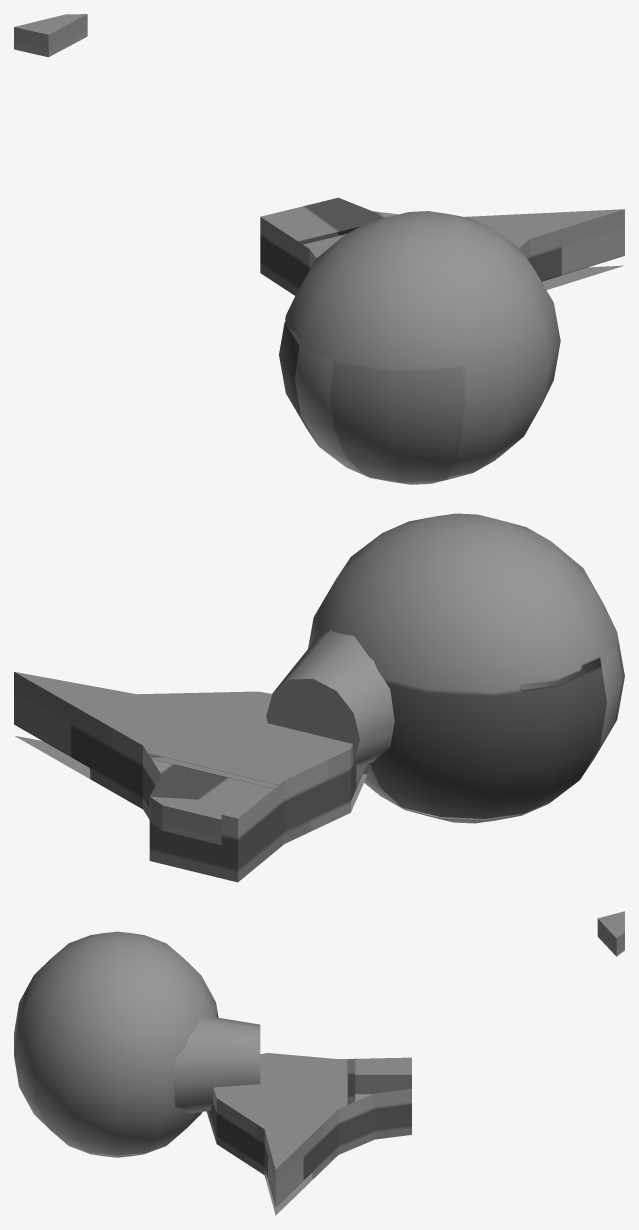
The picture shows the model from 3 angles, top to bottom: view 1: azimuth 30°, elevation 25°; view 2: azimuth 150°, elevation 25°; view 3: azimuth 270°, elevation 25°; orthographic projection. The views are drawn at different scales.
Size of the model in its own units: 1.09 by 0.615 by 1.66.
